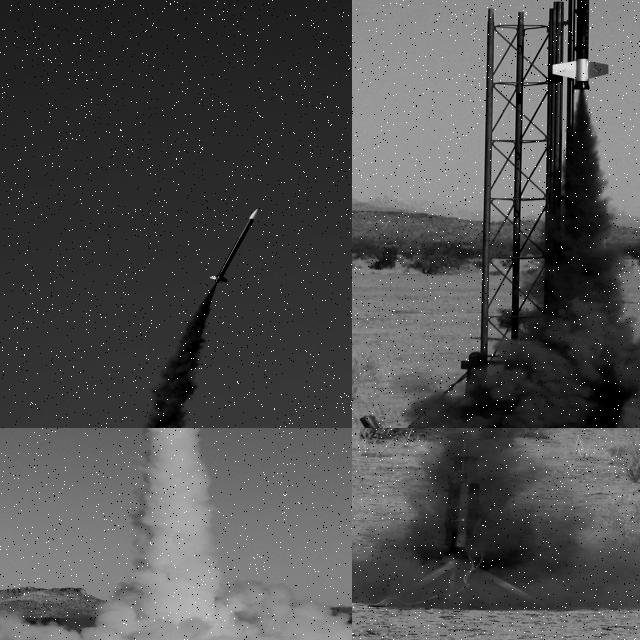Rocket: (549, 0, 610, 91), (209, 209, 258, 283)
